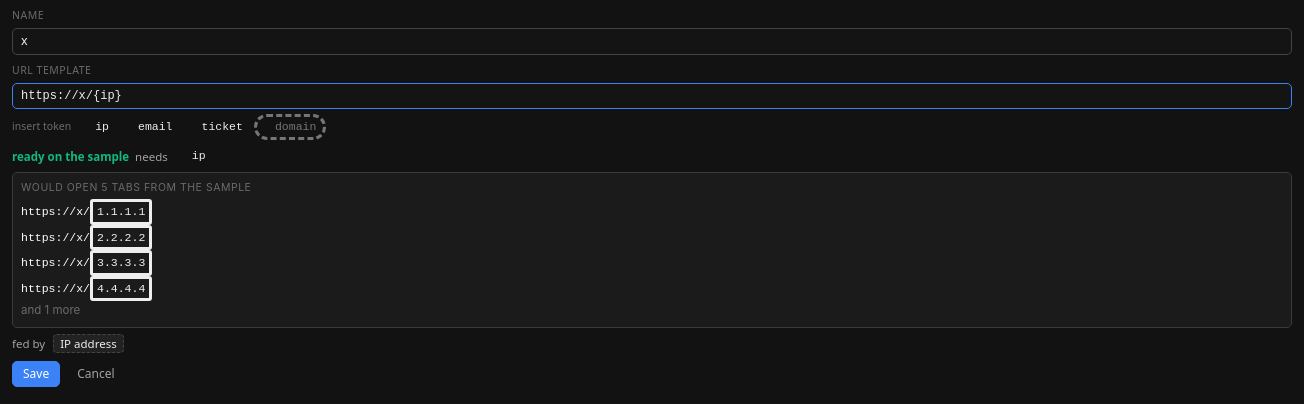
Test: ToolEditor › caps the preview and says how many more, and a URL with no tokens opens as it is
The width and height of the screenshot is (1304, 404).
Expected: the text with test id "tool-preview-caption" shows "Would open 5 tabs", 21,181 -> 252,194
Replace the text in the field with test id "tool-url" with "https://plain.example/". click: (652, 96)
box: 12,83 -> 1292,109
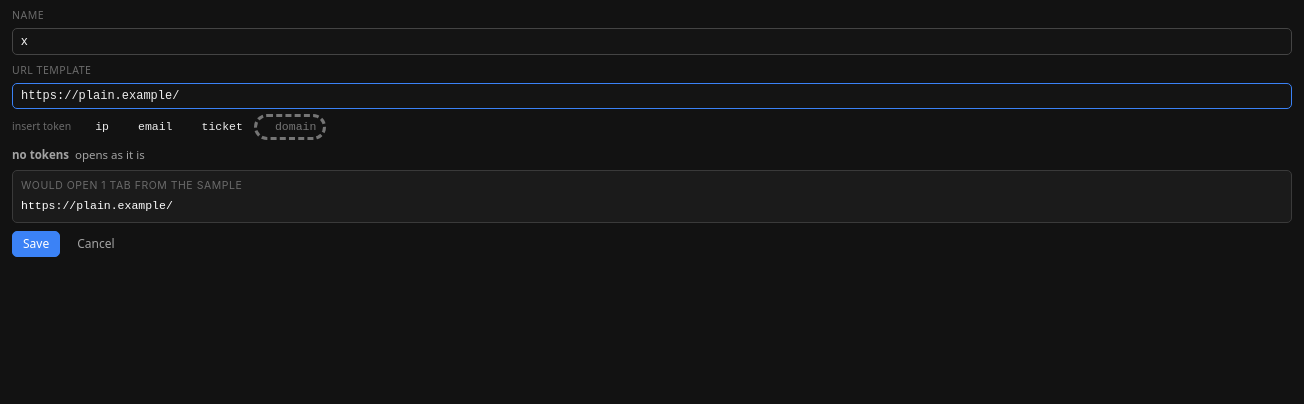
Now the element with test id "readiness" shows "no tokens", box 12,147 -> 69,162
Now the text with test id "tool-preview-caption" shows "Would open 1 tab", box 21,178 -> 242,192
